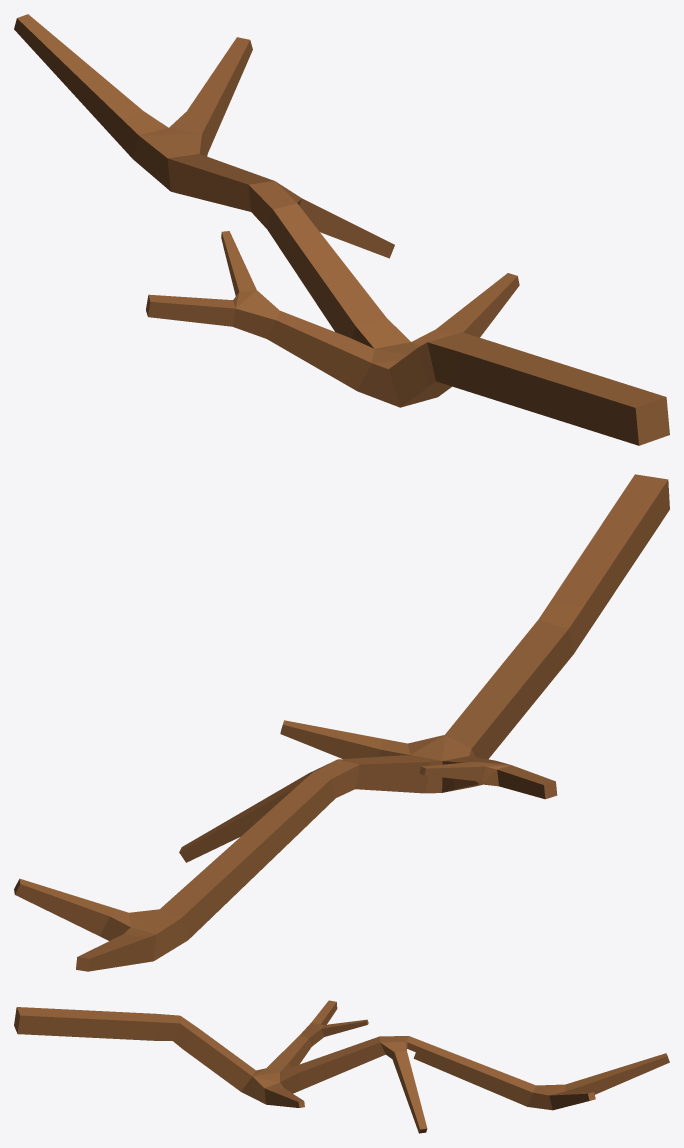
Rendered from branch2.fbx.
3 views of the same model, one above another, from view 1: azimuth 30°, elevation 25°; view 2: azimuth 150°, elevation 25°; view 3: azimuth 270°, elevation 25° (orthographic). The views are drawn at different scales.
Visible parts, largest first — view 1: Plane; view 2: Plane; view 3: Plane.
Boxes of the visible parts, bbox=[...] form: Plane: bbox=[14, 14, 669, 445]; Plane: bbox=[14, 474, 669, 971]; Plane: bbox=[14, 1000, 669, 1133].
Size of the model in its own units: 75.42 by 35.17 by 233.
